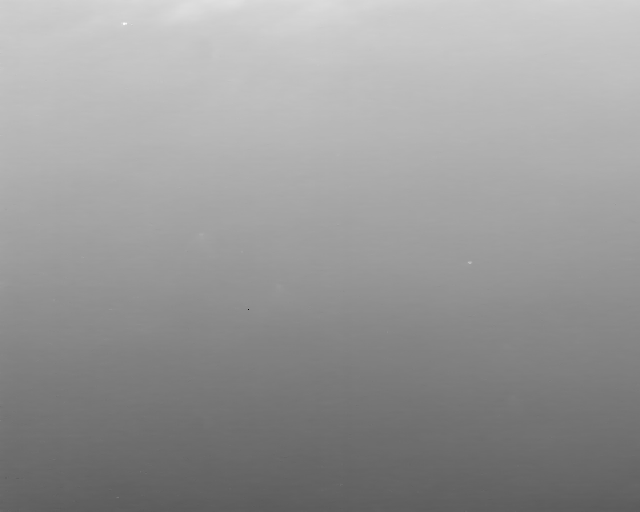Target: (122, 23, 129, 26), (468, 262, 474, 265)
